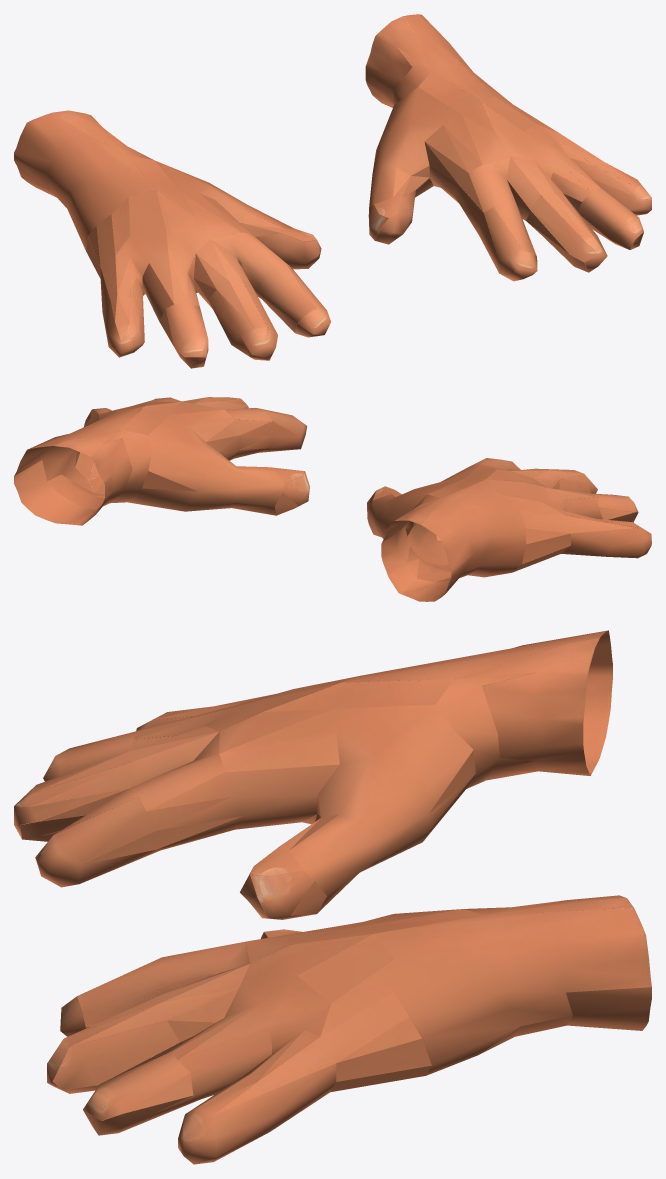
File: WhiteSkinHands.glb
3 renders of one model, top to bottom at view 1: azimuth 30°, elevation 25°; view 2: azimuth 150°, elevation 25°; view 3: azimuth 270°, elevation 25°, orthographic. The views are drawn at different scales.
Visible parts, largest first — view 1: mesh_node; view 2: mesh_node; view 3: mesh_node.
Boxes of the visible parts, x1=… form: mesh_node: x1=14, y1=14, x2=651, y2=368; mesh_node: x1=14, y1=397, x2=651, y2=601; mesh_node: x1=14, y1=630, x2=651, y2=1164.
Size of the model in its own units: 2 by 0.4052 by 1.3.
Materials: 1 (1 with a texture image).
